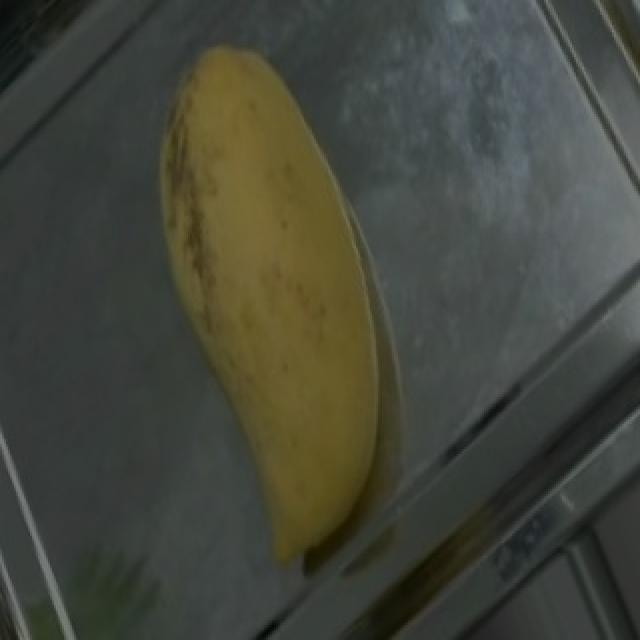fruit: (114, 12, 440, 427)
